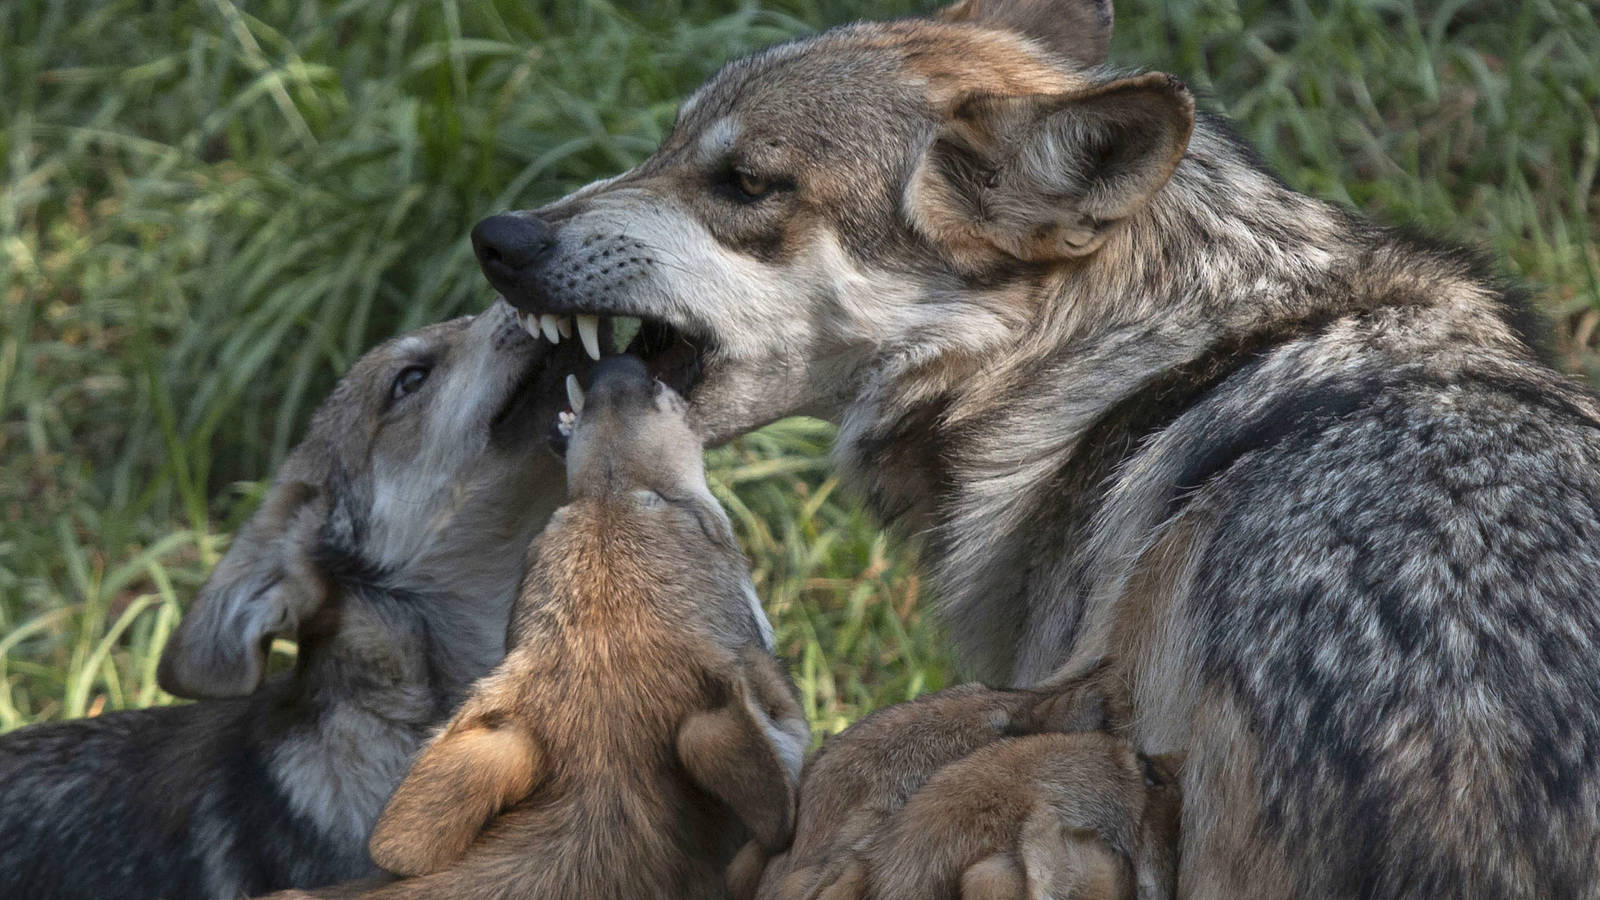Lobo: (448, 26, 1440, 484), (135, 300, 571, 773), (452, 358, 801, 860)
